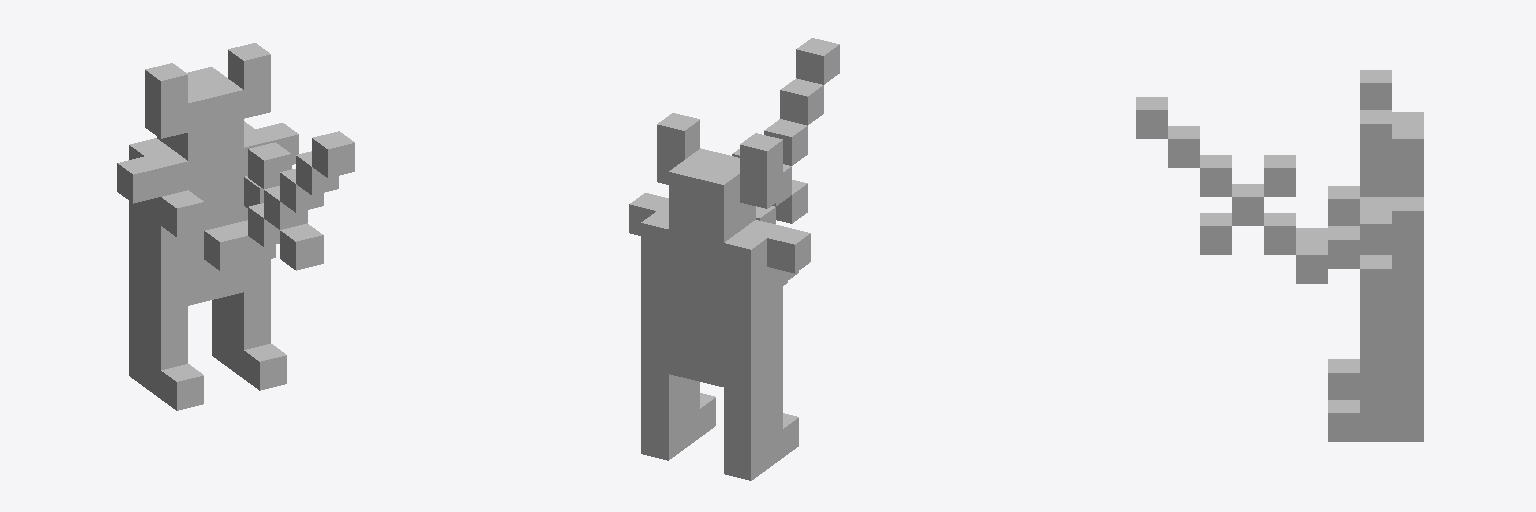
File: Black Knight.obj
3 views of the same model, side by side, from view 1: azimuth 30°, elevation 25°; view 2: azimuth 150°, elevation 25°; view 3: azimuth 270°, elevation 25° (orthographic).
Parts seen in each view (by area): view 1: Black Knight; view 2: Black Knight; view 3: Black Knight.
Boxes of the visible parts, <box> form: Black Knight: <box>117,43,354,410</box>; Black Knight: <box>629,38,839,480</box>; Black Knight: <box>1136,70,1423,441</box>.
Size of the model in its own units: 6 by 11 by 9.